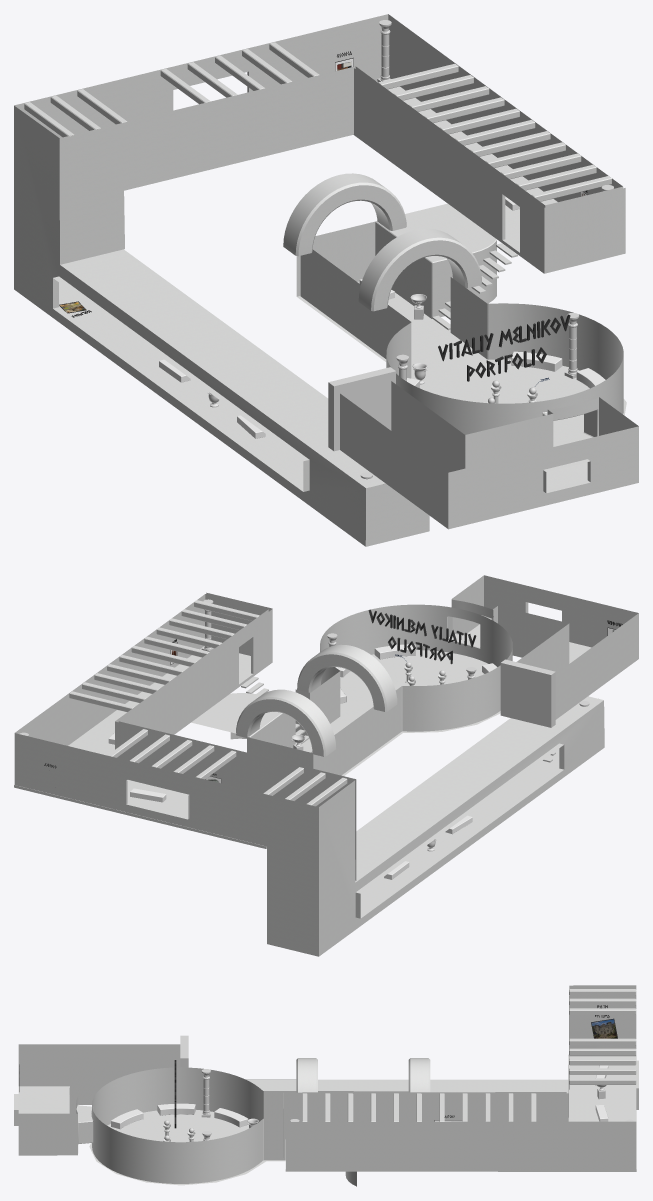
The model's file is roomTour.glb.
3 renders of one model, top to bottom at view 1: azimuth 30°, elevation 25°; view 2: azimuth 150°, elevation 25°; view 3: azimuth 270°, elevation 25°, orthographic. The views are drawn at different scales.
Parts seen in each view (by area): view 1: zapek, zapek_not_uv, matcap_1_text_parallax, matcap_1_seat; view 2: zapek, zapek_not_uv, matcap_1_text_parallax, matcap_1_seat; view 3: zapek, matcap_1_seat, ray_object_4, matcap_1_column.011.
Boxes of the visible parts, x1,y1,x2,y2 form: zapek: (14, 14, 638, 546); zapek_not_uv: (328, 367, 395, 451); matcap_1_text_parallax: (438, 314, 570, 381); matcap_1_seat: (407, 351, 605, 388); zapek: (14, 575, 638, 956); zapek_not_uv: (500, 659, 555, 727); matcap_1_text_parallax: (368, 609, 476, 664); matcap_1_seat: (335, 644, 497, 703); zapek: (14, 985, 638, 1186); matcap_1_seat: (111, 1103, 248, 1129); ray_object_4: (591, 1019, 617, 1038); matcap_1_column.011: (201, 1069, 210, 1117).
Bounding box in the file's own units: 12.27 × 5.76 × 23.35.
Materials: 15 (11 with a texture image).
